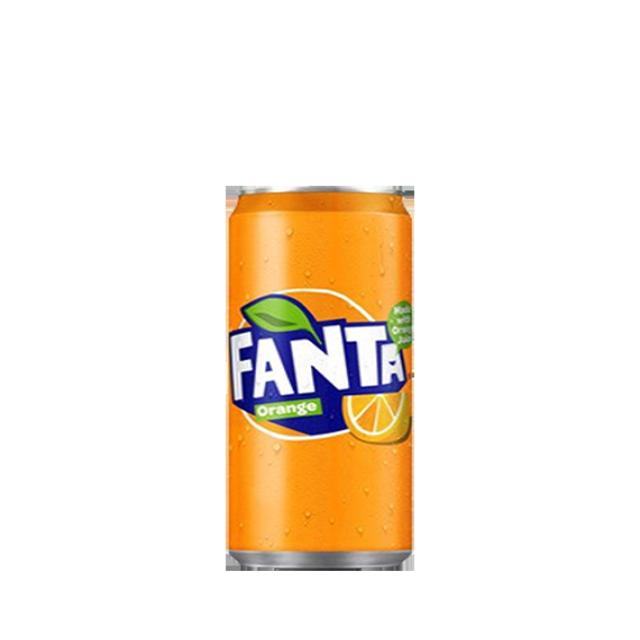fanta: (227, 187, 411, 574)
